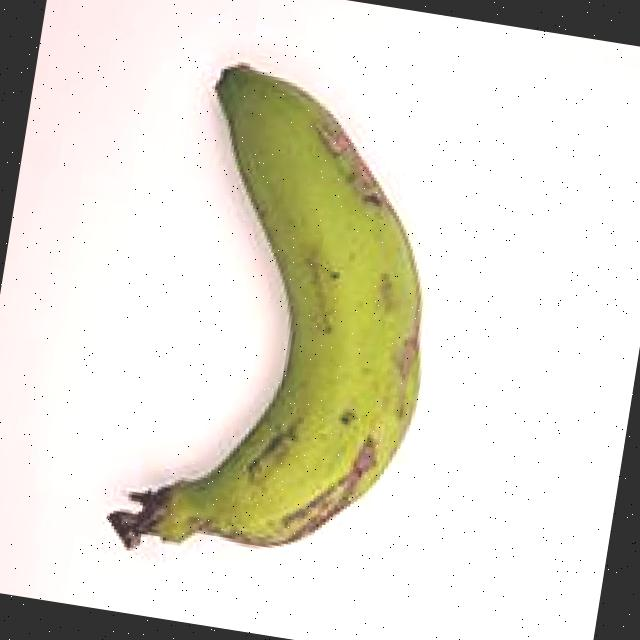Raw: (54, 22, 502, 626)
